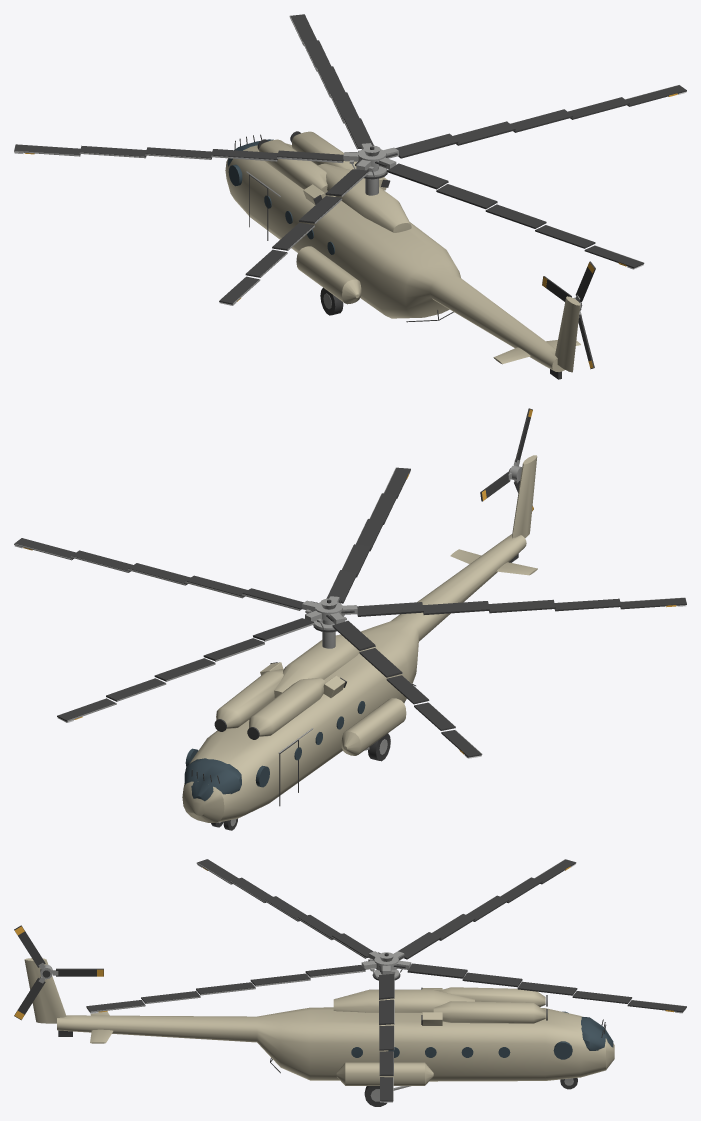
File: transport_rus.glb
The picture shows the model from 3 angles, top to bottom: view 1: azimuth 30°, elevation 25°; view 2: azimuth 150°, elevation 25°; view 3: azimuth 270°, elevation 25°; orthographic projection. The views are drawn at different scales.
Parts seen in each view (by area): view 1: body, rotor, trotor; view 2: body, rotor, trotor; view 3: body, rotor, trotor.
Part boxes in pixels (left/top/right/bottom): body: left=225, top=131, right=580, bottom=379; rotor: left=14, top=14, right=686, bottom=305; trotor: left=542, top=261, right=595, bottom=369; body: left=182, top=455, right=537, bottom=830; rotor: left=14, top=467, right=686, bottom=758; trotor: left=480, top=408, right=533, bottom=511; body: left=24, top=958, right=614, bottom=1106; rotor: left=86, top=859, right=686, bottom=1102; trotor: left=14, top=925, right=103, bottom=1020.
Size of the model in its own units: 19.41 by 6.16 by 22.86.
